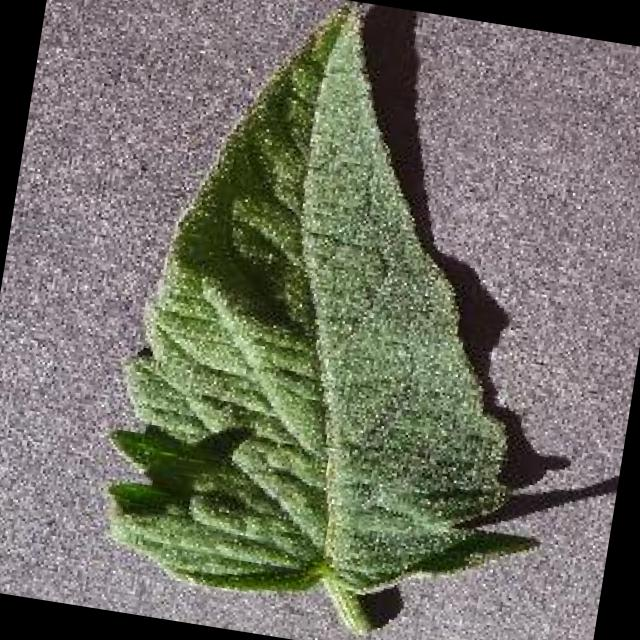Tomato_Healthy: (39, 6, 588, 636)
